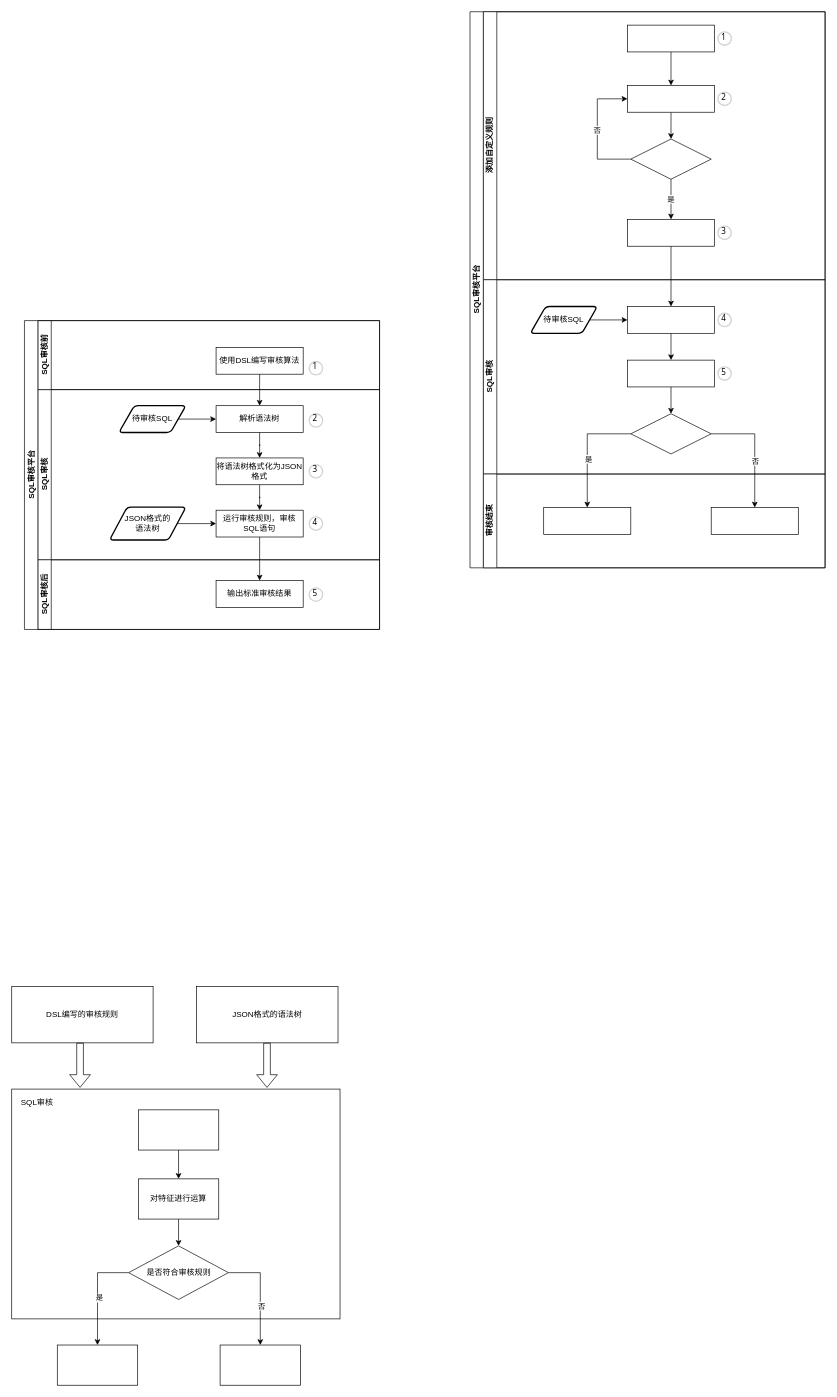
The diagram is 837 pixels wide and 1397 high, and some of its shapes have lost their labels. Each missing label, with the centre of its shape:
从语法树中提取SQL特征: the point at 178,1129
保存为SQL审核规则: the point at 671,232
修改/调试脚本: the point at 671,98
审核是否通过: the point at 670,433
提示审核失败，及失败原因: the point at 754,520
提示审核通过: the point at 587,520
是否调试通过: the point at 670,158
编写Tengo规则脚本: the point at 671,38
解析语法树 (格式化为JSON): the point at 671,319
输出： 1.审核不通过的信息 2.审核规则详细信息 3.修改建议: the point at 259,1364
输出： 审核通过的信息: the point at 97,1364
运行Tengo脚本，审核SQL语句: the point at 671,373
